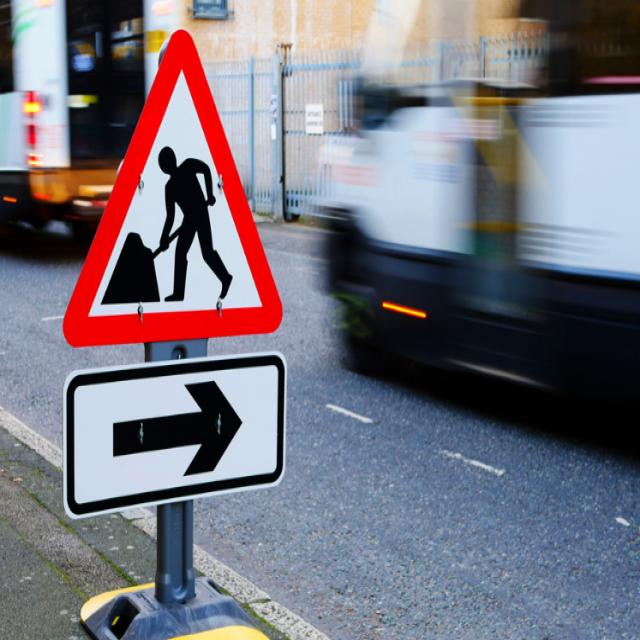WORKERS: (64, 31, 281, 345)
